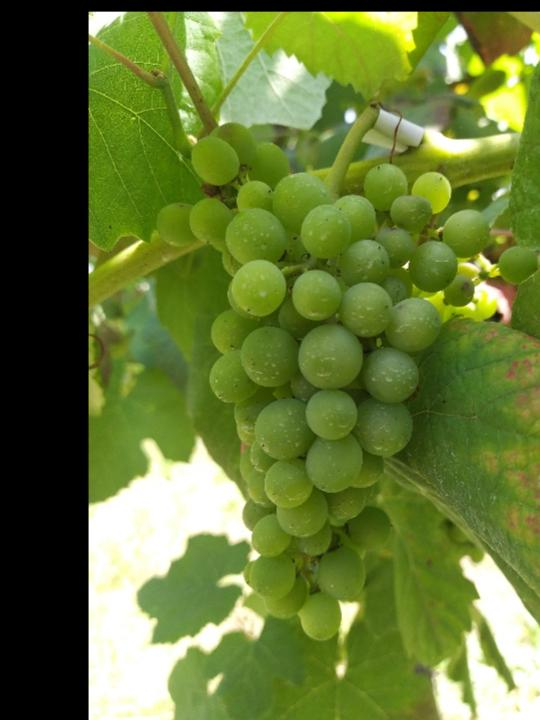grape: (152, 120, 540, 646)
